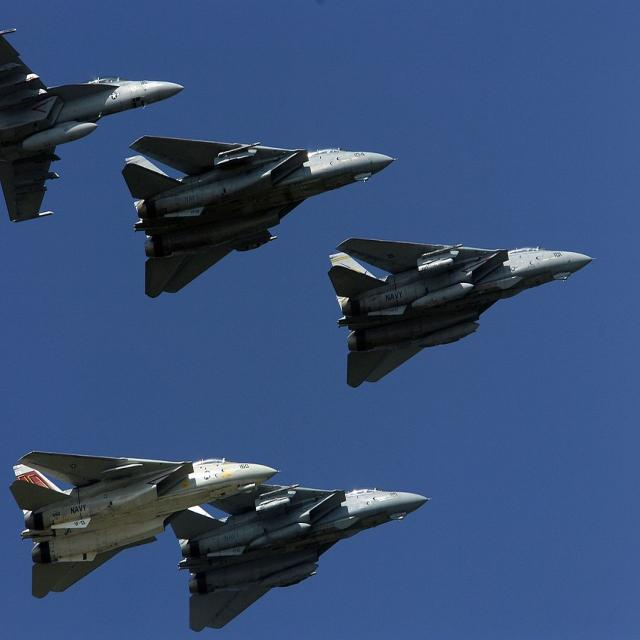MIL_Plane: (121, 135, 398, 298), (327, 235, 597, 388), (9, 451, 282, 599), (170, 483, 432, 632), (1, 28, 184, 224)
